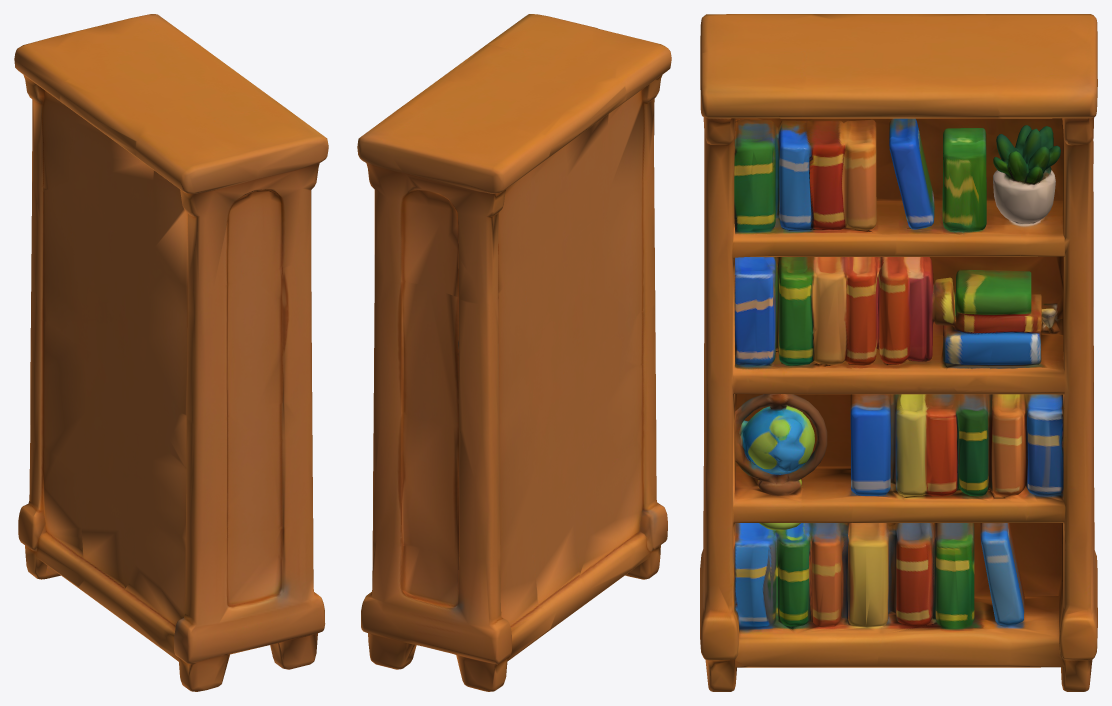
File: bookshelf.glb
3 views of the same model, side by side, from view 1: azimuth 30°, elevation 25°; view 2: azimuth 150°, elevation 25°; view 3: azimuth 270°, elevation 25° (orthographic). The views are drawn at different scales.
Visible parts, largest first — view 1: tripo_node_feb86559-8af6-458c-b9a2-b2724c03caa2; view 2: tripo_node_feb86559-8af6-458c-b9a2-b2724c03caa2; view 3: tripo_node_feb86559-8af6-458c-b9a2-b2724c03caa2.
Part boxes in pixels (<box>): tripo_node_feb86559-8af6-458c-b9a2-b2724c03caa2: <box>14,14,328,691</box>; tripo_node_feb86559-8af6-458c-b9a2-b2724c03caa2: <box>357,14,671,691</box>; tripo_node_feb86559-8af6-458c-b9a2-b2724c03caa2: <box>700,14,1097,691</box>.
Size of the model in its own units: 0.2927 by 0.9999 by 0.5908.
1 material, 1 textured.
